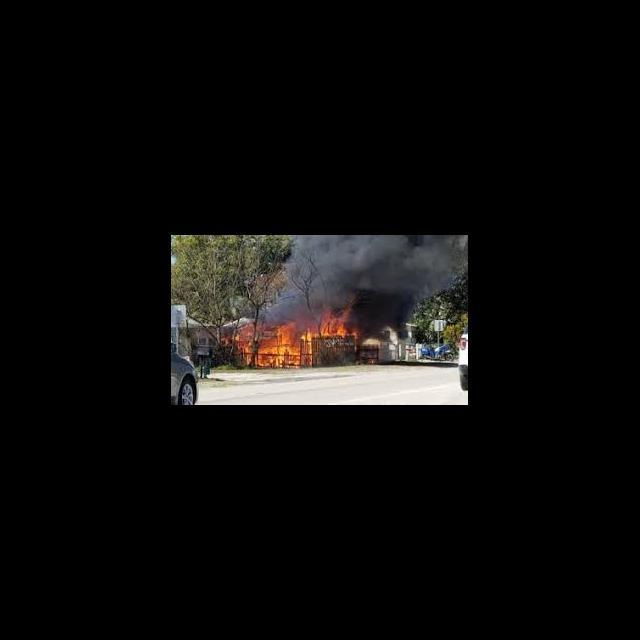Fire: (222, 323, 360, 367)
Smoke: (296, 238, 452, 294), (274, 291, 354, 324), (356, 296, 410, 326)
